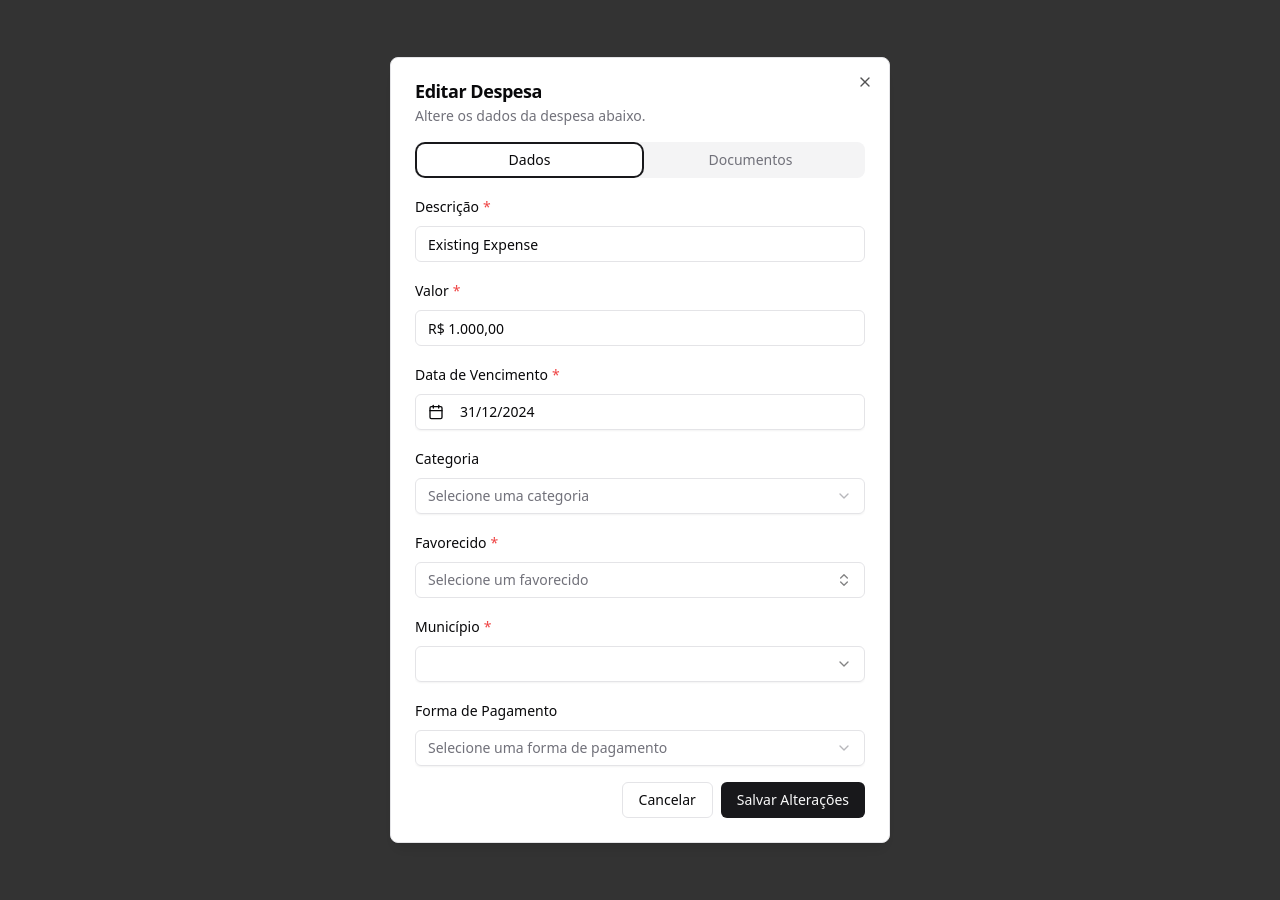
Test: Expense File Upload Integration › Existing file URLs in edit mode › should show existing service invoice preview when editing expense
Check: the heading "Editar Despesa" is shown, box [415,79,542,103]
What coordinates should you click on to do the following:
click the tab "Documentos"
I would click on:
 (750, 160)
Its box is [640,146,861,174].
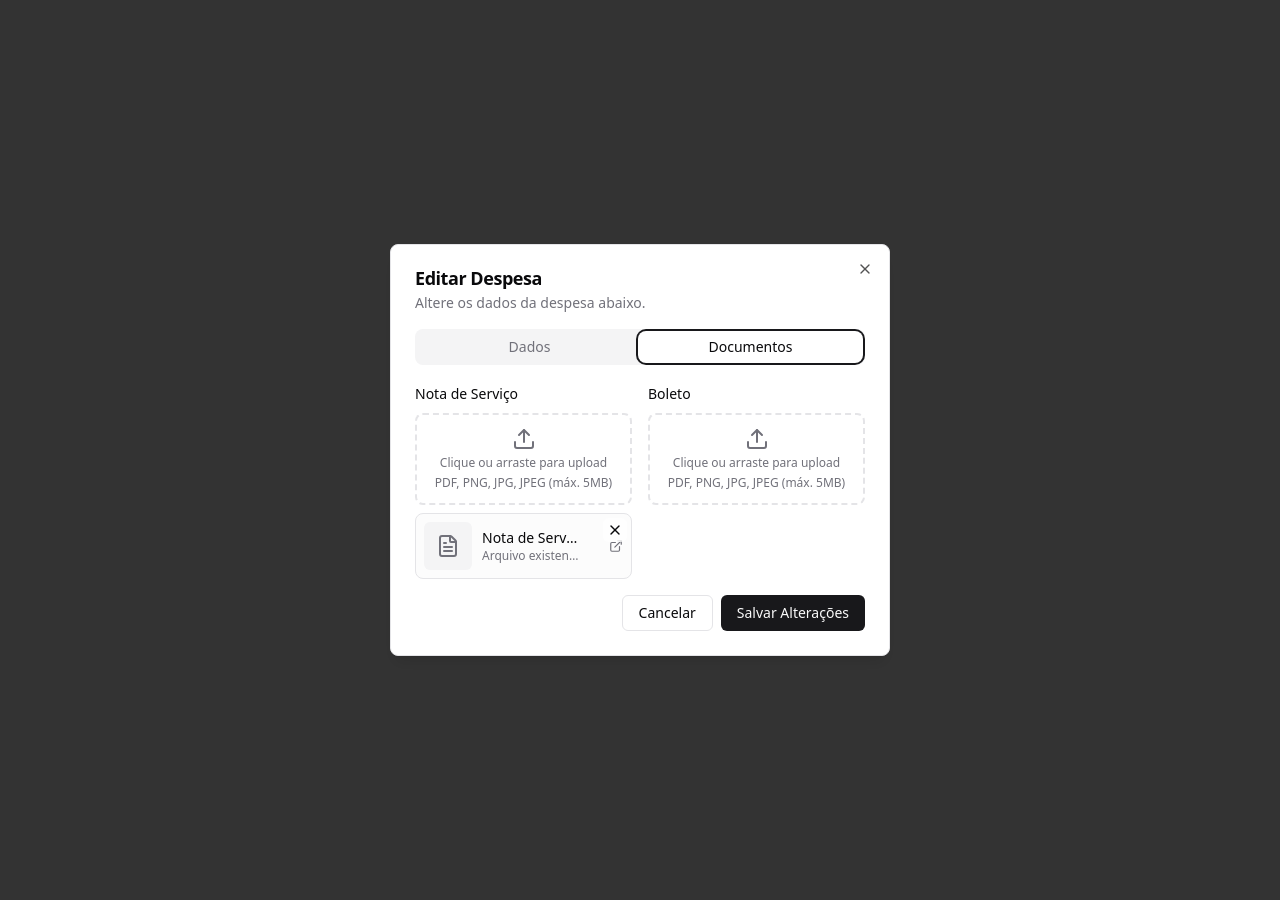
Check: the icon with test id "pdf-icon" is shown, box [436,534,460,558]
Check: the text with test id "file-name" reads "Nota de Serviço", box [482,528,585,547]
